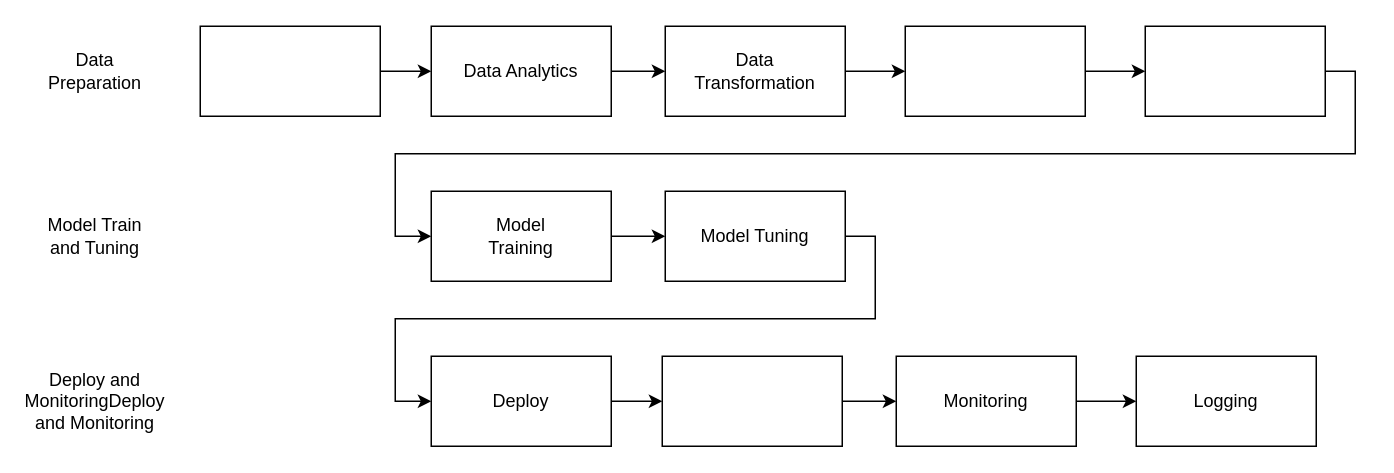
Image size: 1394x473. Some labels were removed from this diagram. Here are the shapes that lost their labels. From the top down, the centre of each, then its label:
(x=289, y=70): Ingest Data
(x=994, y=70): Data Validation
(x=1234, y=70): Create Training Data
(x=751, y=400): Service
